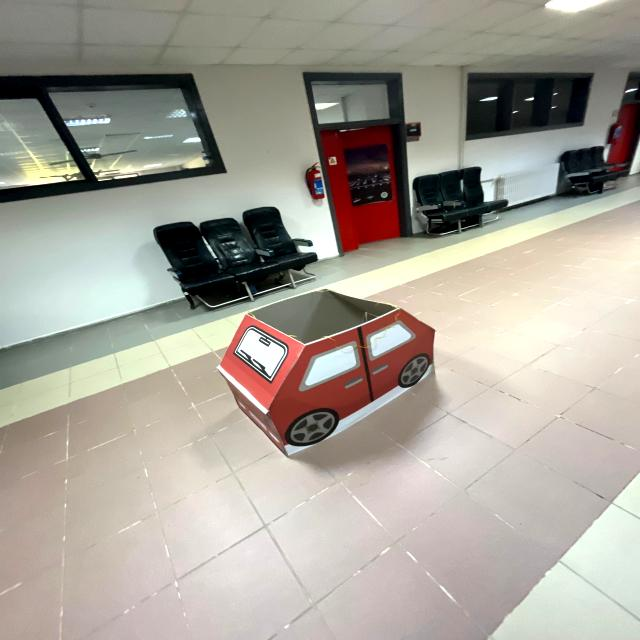red_car: (199, 281, 461, 468)
